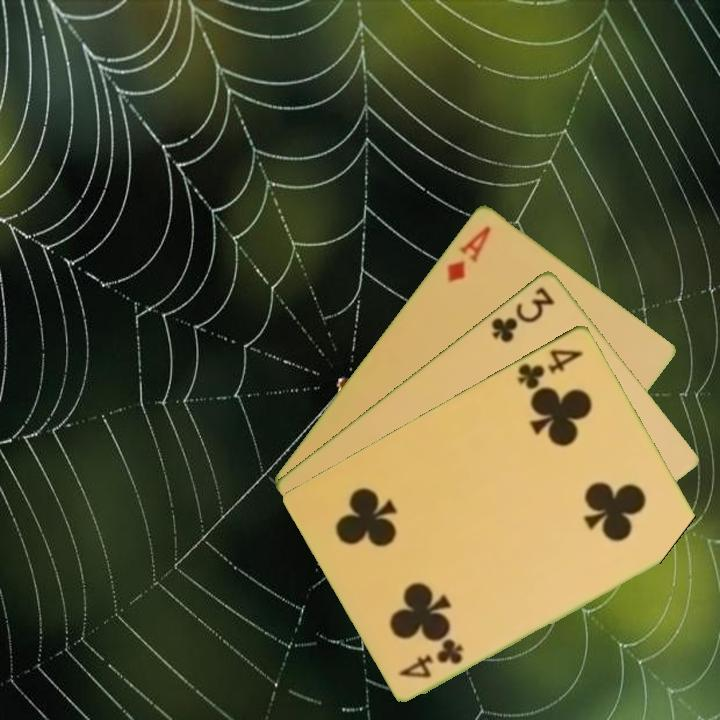3c: (487, 282, 558, 345)
4c: (514, 344, 586, 392), (395, 637, 466, 681)
Ad: (443, 221, 494, 285)
